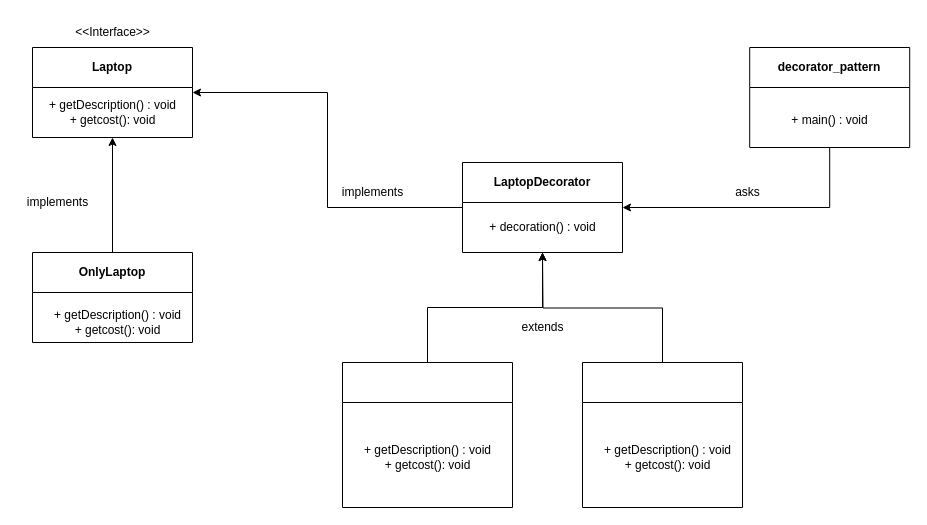
This 927x525 diagram has some shape labels left out. Here are the shapes that lost their labels. From the top down, the box of each, then its label:
(342, 362, 512, 508): CoverDecorator
(582, 362, 742, 508): StickerDecorator
